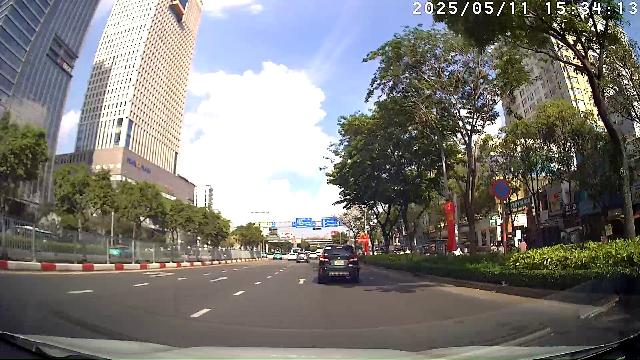130-cam-dung-va-do-xe: (493, 180, 511, 200)
